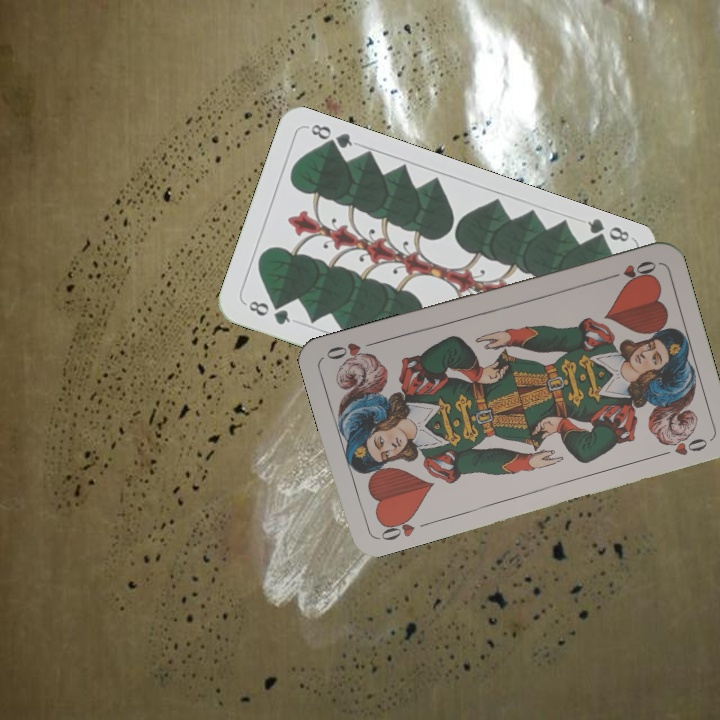G8: (583, 215, 632, 248), (244, 296, 293, 328)
HO: (601, 257, 659, 283), (374, 510, 418, 543)
